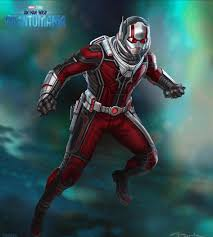Object-Detection: (0, 1, 213, 237)
